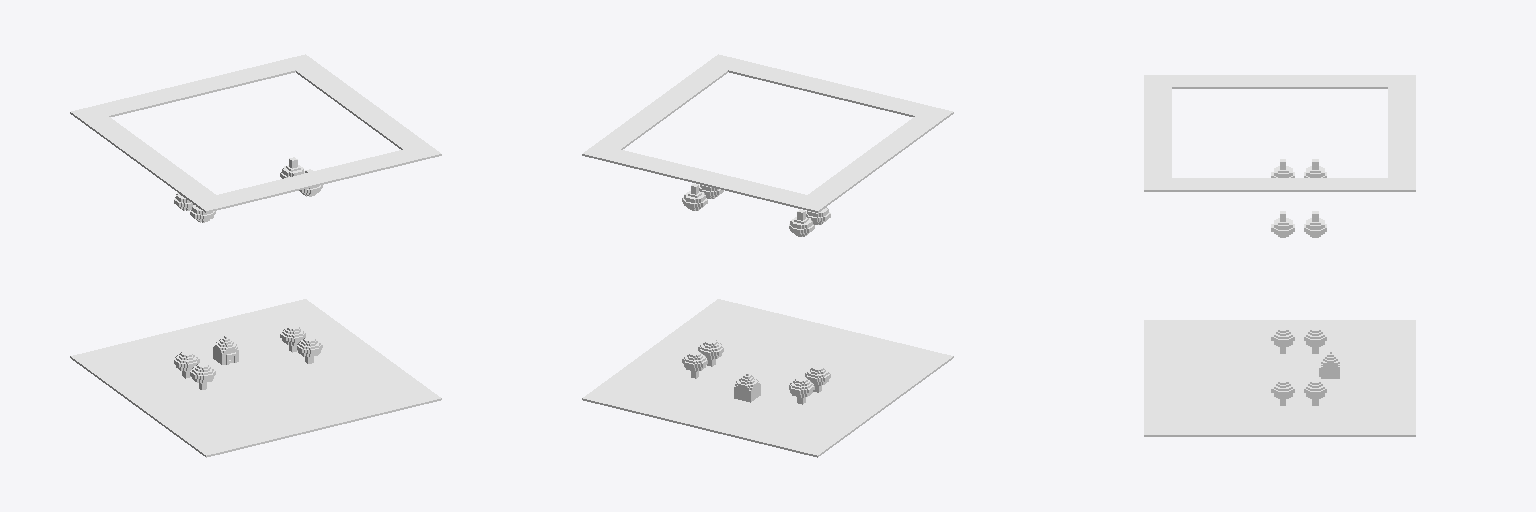
File: scene-demo.obj
3 views of the same model, side by side, from view 1: azimuth 30°, elevation 25°; view 2: azimuth 150°, elevation 25°; view 3: azimuth 270°, elevation 25° (orthographic).
Bounding box in the file's own units: 126 × 126 × 126.